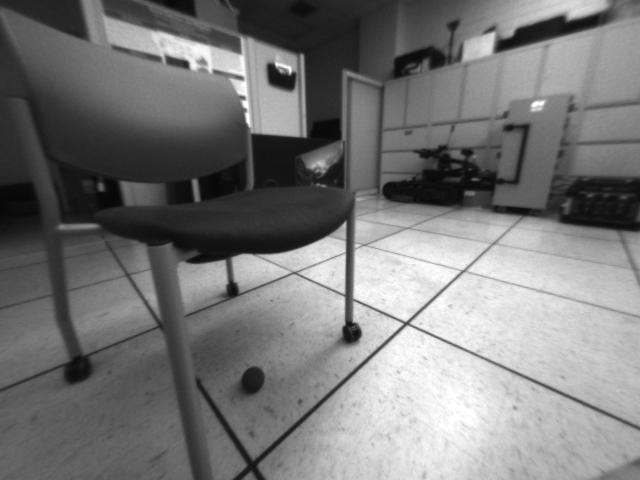dogtoy: (233, 360, 270, 399)
